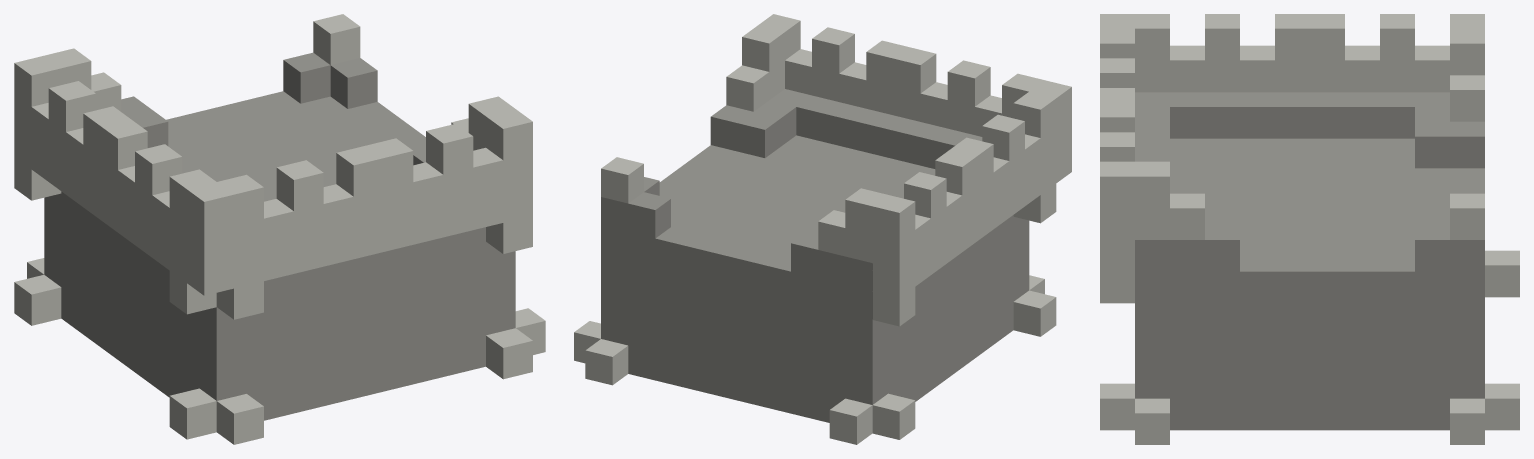
Rendered from 1x1x5_corner.fbx.
3 views of the same model, side by side, from view 1: azimuth 30°, elevation 25°; view 2: azimuth 150°, elevation 25°; view 3: azimuth 270°, elevation 25° (orthographic). The views are drawn at different scales.
Parts seen in each view (by area): view 1: Matrix; view 2: Matrix; view 3: Matrix.
Boxes of the visible parts, left/top/right/bottom form: Matrix: left=14, top=14, right=545, bottom=444; Matrix: left=574, top=14, right=1071, bottom=444; Matrix: left=1100, top=14, right=1519, bottom=444.
Size of the model in its own units: 12 by 8 by 12.
Materials: 1 (1 with a texture image).
